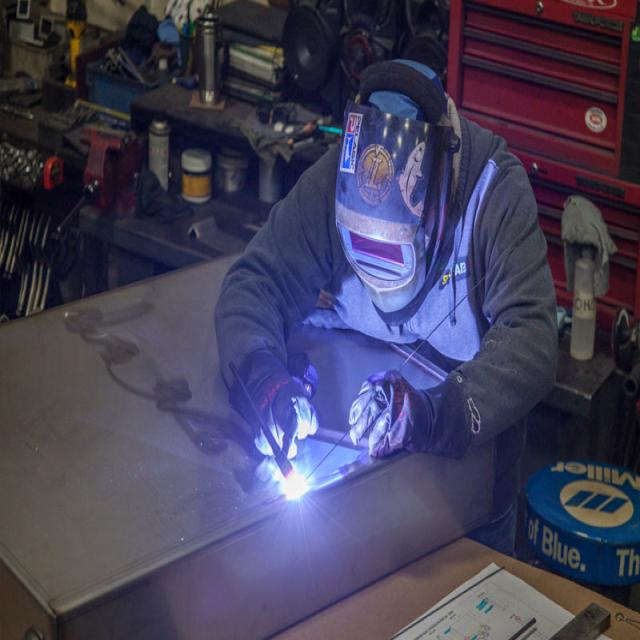welding: (284, 468, 311, 502)
